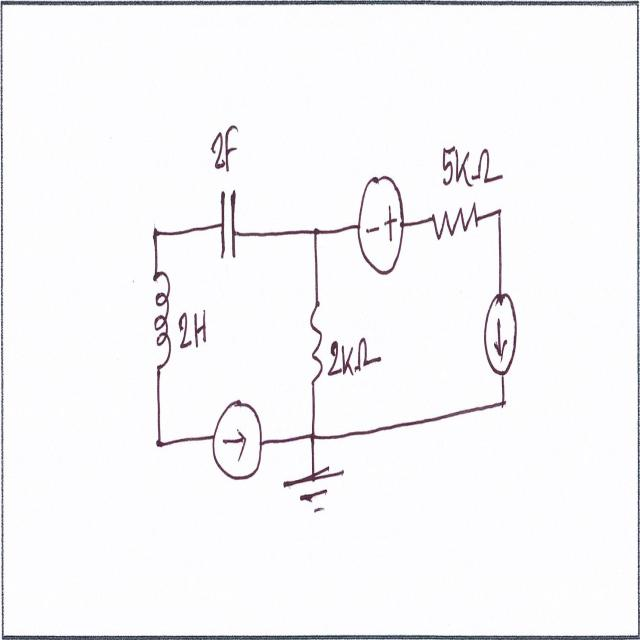capacitor: (214, 183, 238, 262)
current_source: (210, 396, 268, 478), (480, 289, 520, 382)
ground: (278, 468, 346, 525)
inductor: (149, 265, 173, 378)
resistor: (427, 196, 485, 248), (306, 294, 325, 394)
voltage_source: (355, 172, 406, 278)
